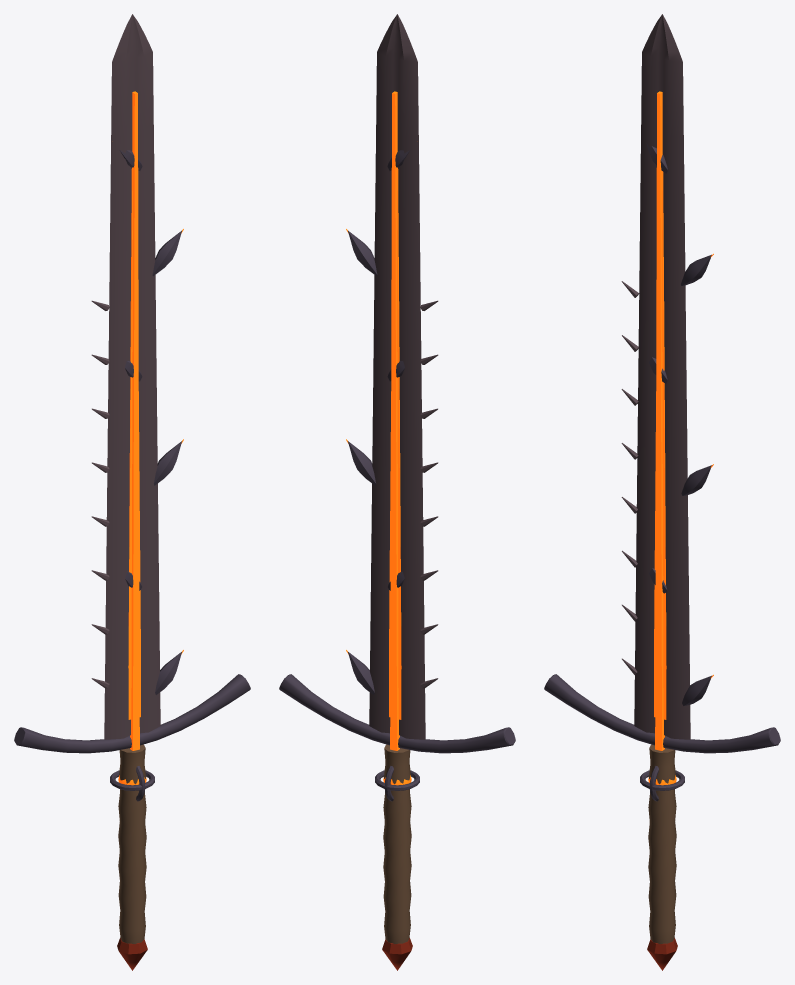
The model's file is fa_sunderer_of_ages.glb.
3 renders of one model, left to right at view 1: azimuth 30°, elevation 25°; view 2: azimuth 150°, elevation 25°; view 3: azimuth 330°, elevation 25°, orthographic.
Visible parts, largest first — view 1: fa_sunderer_of_ages; view 2: fa_sunderer_of_ages; view 3: fa_sunderer_of_ages.
Part boxes in pixels (<box>): fa_sunderer_of_ages: <box>14,14,250,970</box>; fa_sunderer_of_ages: <box>279,14,515,970</box>; fa_sunderer_of_ages: <box>544,14,780,970</box>.
Bounding box in the file's own units: 0.4526 × 1.78 × 0.0769.
